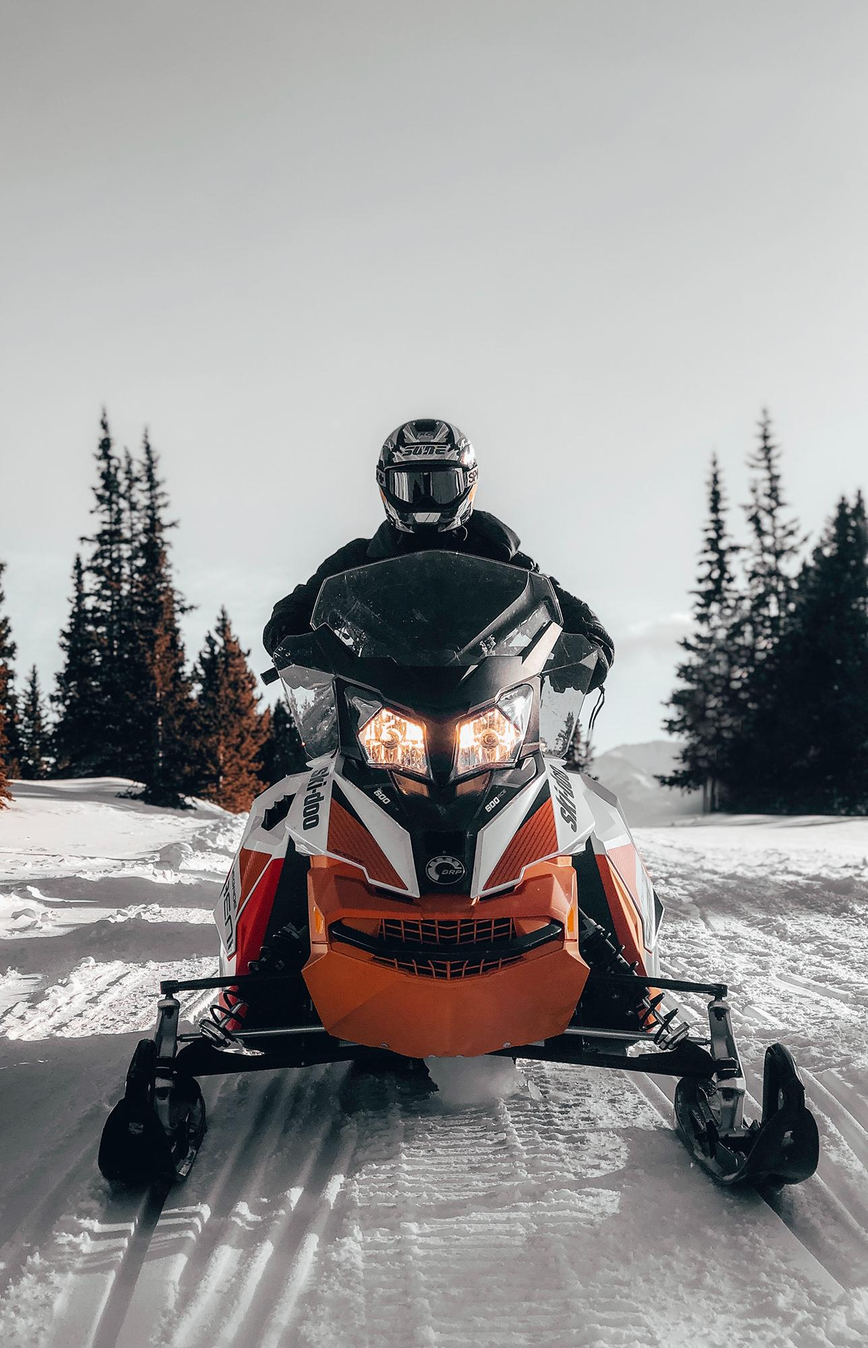helmet: (375, 418, 479, 537)
